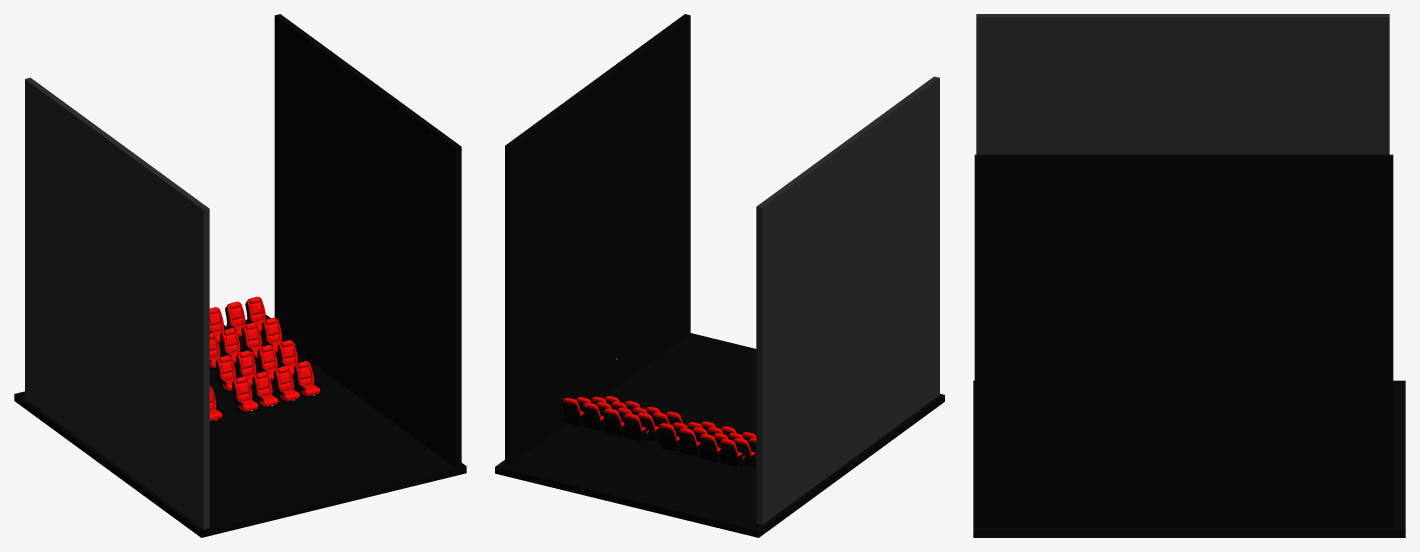
Rendered from setting.glb.
3 renders of one model, left to right at view 1: azimuth 30°, elevation 25°; view 2: azimuth 150°, elevation 25°; view 3: azimuth 270°, elevation 25°, orthographic. The views are drawn at different scales.
Visible parts, largest first — view 1: Cube.003, Cube.002, Cube; view 2: Cube.003, Cube.002, Cube; view 3: Cube.003, Cube.002, Cube.
Boxes of the visible parts, box(x1,y1,x2,y2) form: Cube.003: box(274, 14, 461, 467); Cube.002: box(25, 77, 209, 528); Cube: box(14, 333, 466, 537); Cube.003: box(505, 14, 690, 465); Cube.002: box(756, 76, 939, 524); Cube: box(495, 333, 944, 537); Cube.003: box(974, 154, 1393, 527); Cube.002: box(976, 14, 1389, 154); Cube: box(973, 380, 1405, 537).
Size of what is drawn, in the model's own units: 14.24 by 16.77 by 17.4.
